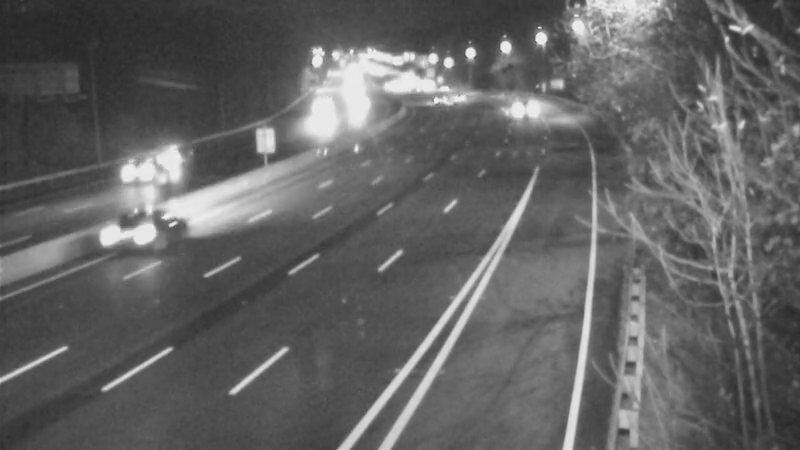vehicle: (87, 183, 167, 263), (93, 128, 173, 208), (129, 113, 209, 193), (429, 77, 479, 127), (410, 78, 460, 128), (492, 76, 542, 126), (293, 90, 343, 140)
